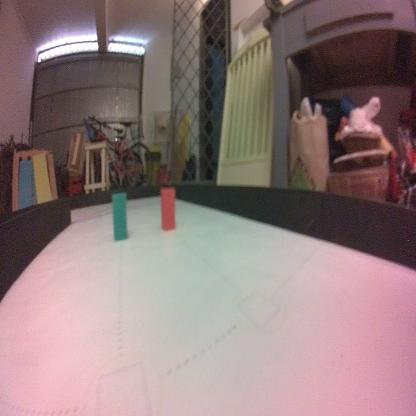green: (110, 191, 130, 244)
red: (159, 187, 176, 233)
